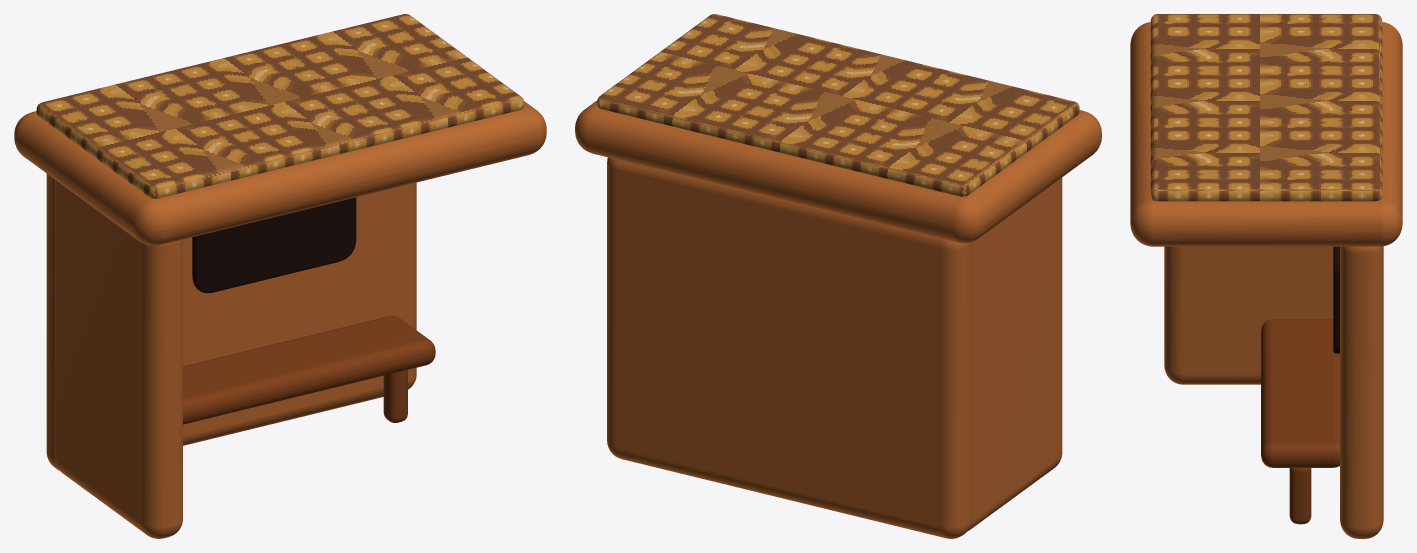
The model's file is bus_shelter.glb.
The picture shows the model from 3 angles, left to right: view 1: azimuth 30°, elevation 25°; view 2: azimuth 150°, elevation 25°; view 3: azimuth 270°, elevation 25°; orthographic projection. The views are drawn at different scales.
Parts seen in each view (by area): view 1: bus_shelter; view 2: bus_shelter; view 3: bus_shelter.
Boxes of the visible parts, x1=… form: bus_shelter: x1=14, y1=14, x2=546, y2=538; bus_shelter: x1=575, y1=14, x2=1101, y2=538; bus_shelter: x1=1130, y1=14, x2=1402, y2=538.
Size of the model in its own units: 3.4 by 2.9 by 2.
Materials: 4 (1 with a texture image).
